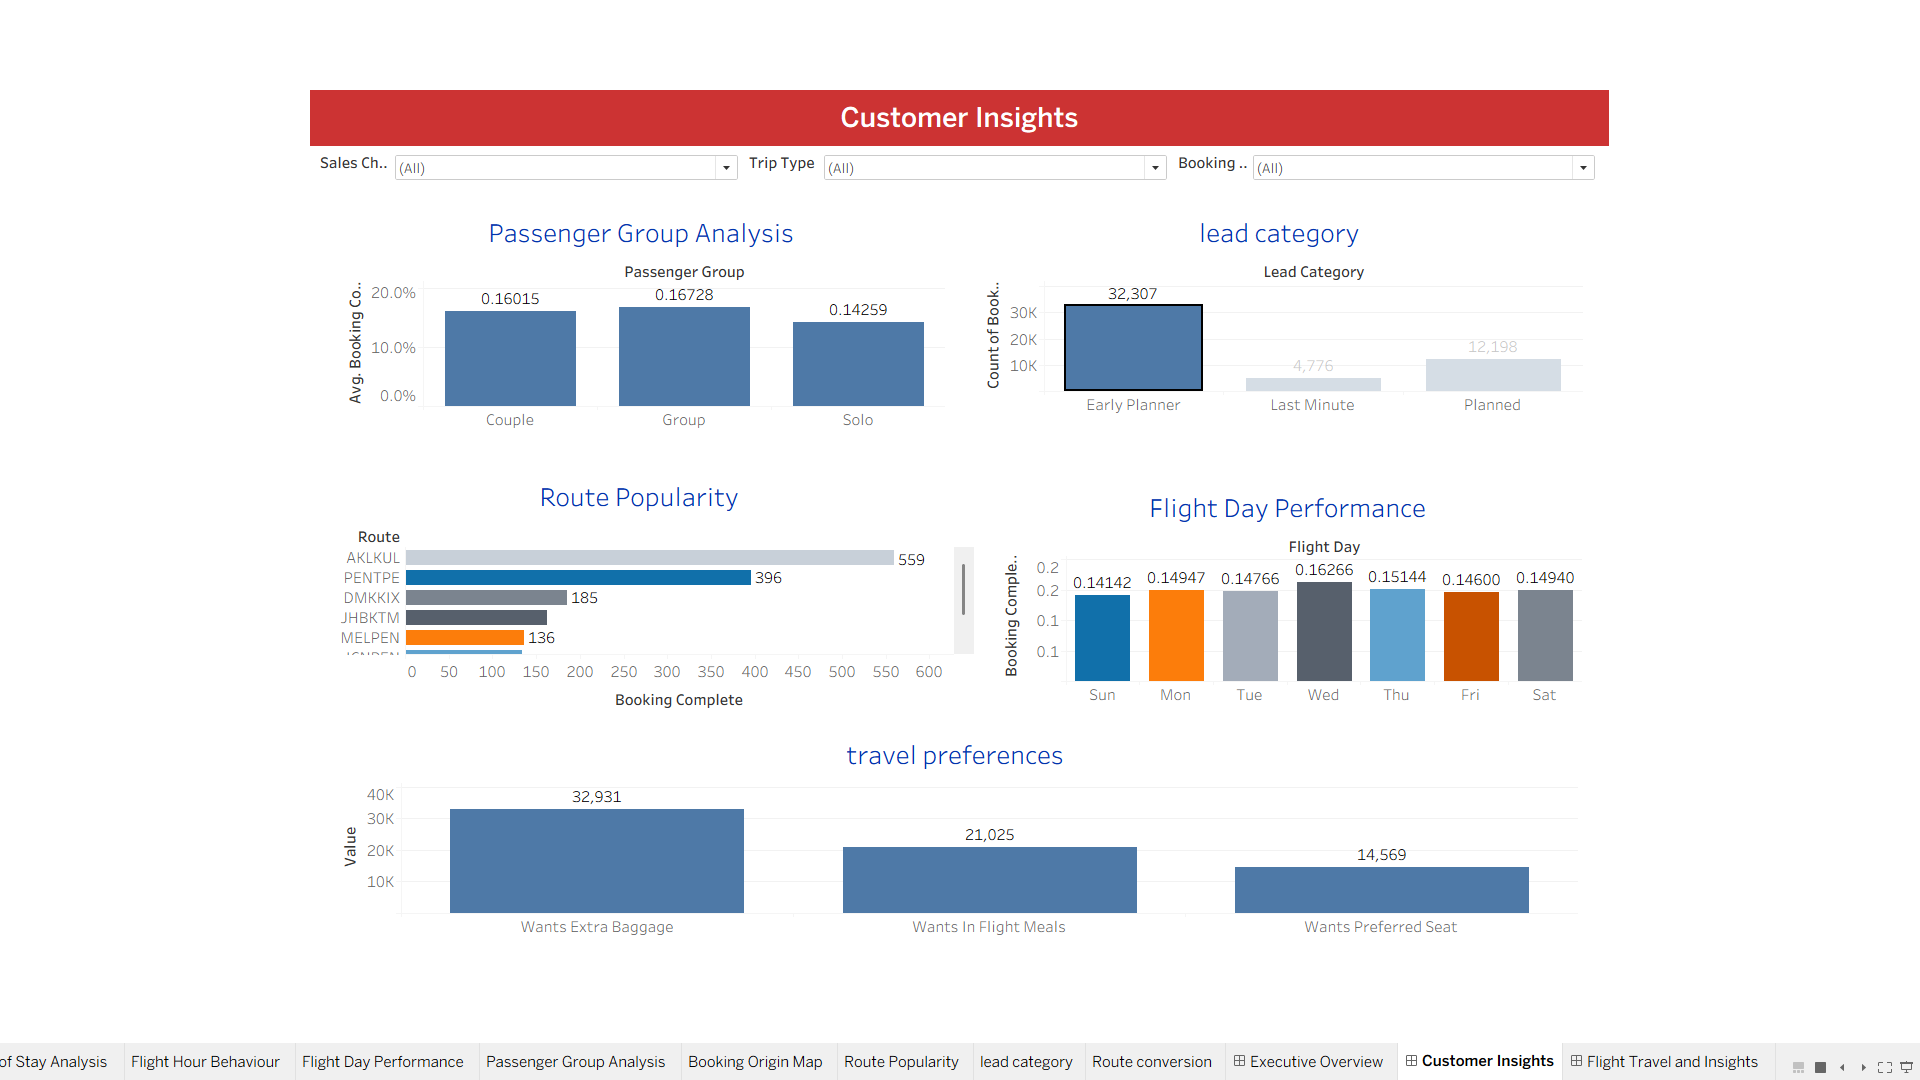

The dashboard page shown, as its layout file describes it:
{"tool":"tableau","page":{"name":"Customer Insights","canvas":[1300,900],"ordinal":0},"visuals":[{"type":"text","box":[0,19,1299,56]},{"type":"filter","title":"Route Popularity","param":"[federated.0qj7os00s5qz081g934kt1tfog1x].[none:sales_channel:nk]","box":[6,77,429,43]},{"type":"filter","title":"Route Popularity","param":"[federated.0qj7os00s5qz081g934kt1tfog1x].[none:trip_type:nk]","box":[435,77,429,43]},{"type":"filter","title":"Route Popularity","param":"[federated.0qj7os00s5qz081g934kt1tfog1x].[none:booking_origin:nk]","box":[864,77,428,43]},{"type":"worksheet","title":"Passenger Group Analysis","mark":"Bar","rows":["booking_complete"],"cols":["passenger_group"],"box":[12,125,638,250]},{"type":"worksheet","title":"lead category","mark":"Bar","rows":["booking_complete"],"cols":["lead_category"],"box":[650,125,638,250]},{"type":"worksheet","title":"Route Popularity","mark":"Bar","rows":["route"],"cols":["booking_complete"],"box":[11,400,657,250]},{"type":"worksheet","title":"Flight Day Performance","mark":"Bar","rows":["booking_complete"],"cols":["flight_day"],"box":[668,400,619,250]},{"type":"worksheet","title":"travel preferences","mark":"Bar","box":[7,647,1276,250]}]}

Visuals, with their boxes on the page's 1300x900 design canvas (x1, y1, x2, y2). These are canvas units, not pixel positions in the 1920x1080 screenshot, which may show the page scaled, cropped or inside an application window:
text: bbox=[0, 19, 1299, 75]
"Route Popularity" filter: bbox=[6, 77, 435, 120]
"Route Popularity" filter: bbox=[435, 77, 864, 120]
"Route Popularity" filter: bbox=[864, 77, 1292, 120]
"Passenger Group Analysis" worksheet (Bar marks): bbox=[12, 125, 650, 375]
"lead category" worksheet (Bar marks): bbox=[650, 125, 1288, 375]
"Route Popularity" worksheet (Bar marks): bbox=[11, 400, 668, 650]
"Flight Day Performance" worksheet (Bar marks): bbox=[668, 400, 1287, 650]
"travel preferences" worksheet (Bar marks): bbox=[7, 647, 1283, 897]
